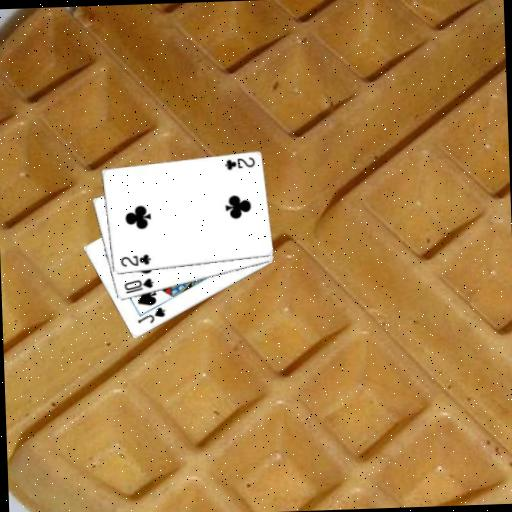10S: (120, 275, 155, 295)
2C: (116, 251, 152, 269), (221, 154, 256, 172)
JS: (134, 303, 167, 325)
